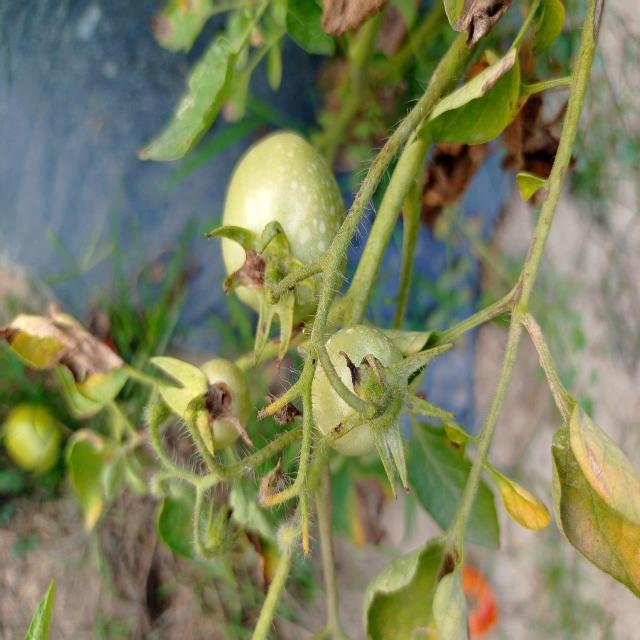Unripe: (222, 130, 343, 320), (312, 324, 408, 459)
